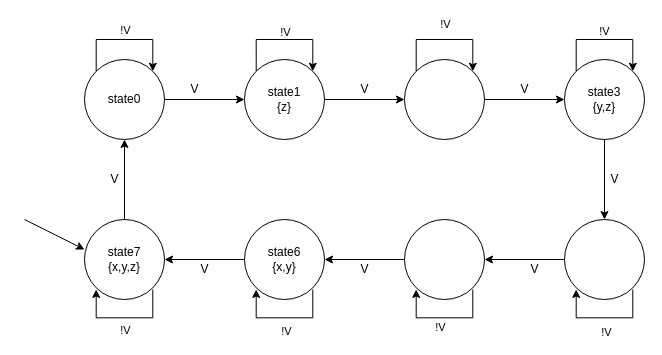
The diagram is 662 pixels wide and 355 high, and some of its shapes have lost their labels. The box of each missing label's shape, as (x1, y1, x2, y2) in pixels:
state2 {y}: (404, 58, 484, 140)
state4 {x}: (564, 218, 644, 300)
state5 {x,z}: (404, 218, 484, 300)
